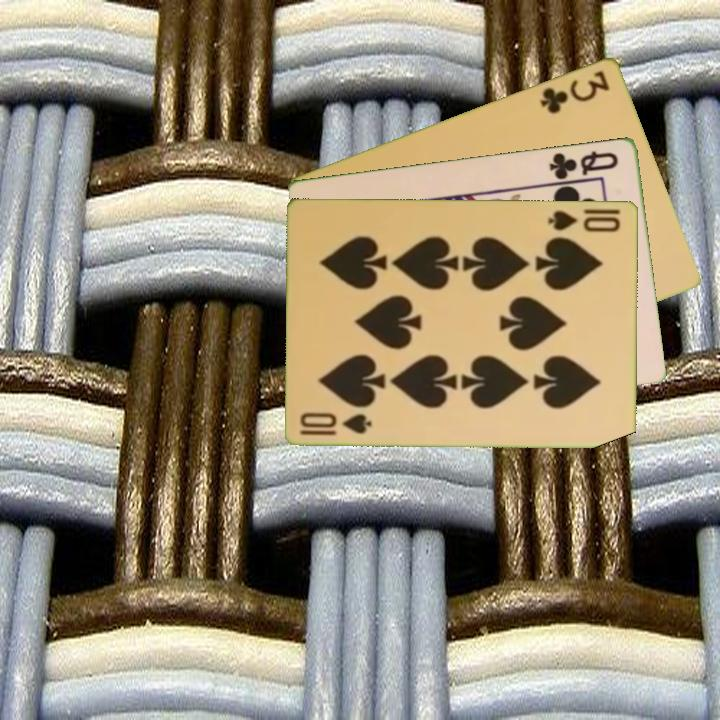10s: (297, 408, 375, 438), (545, 206, 624, 235)
3c: (536, 66, 613, 116)
Qc: (546, 147, 622, 182)
